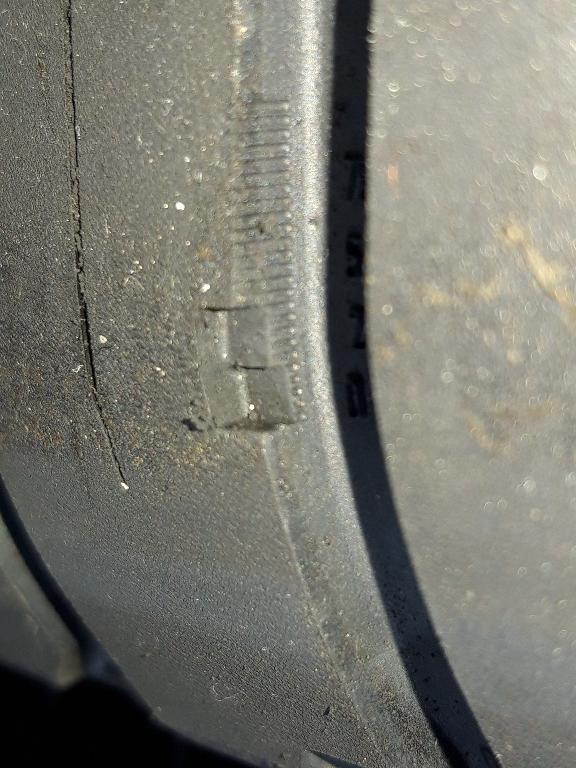temoin:50: (182, 240, 322, 447)
